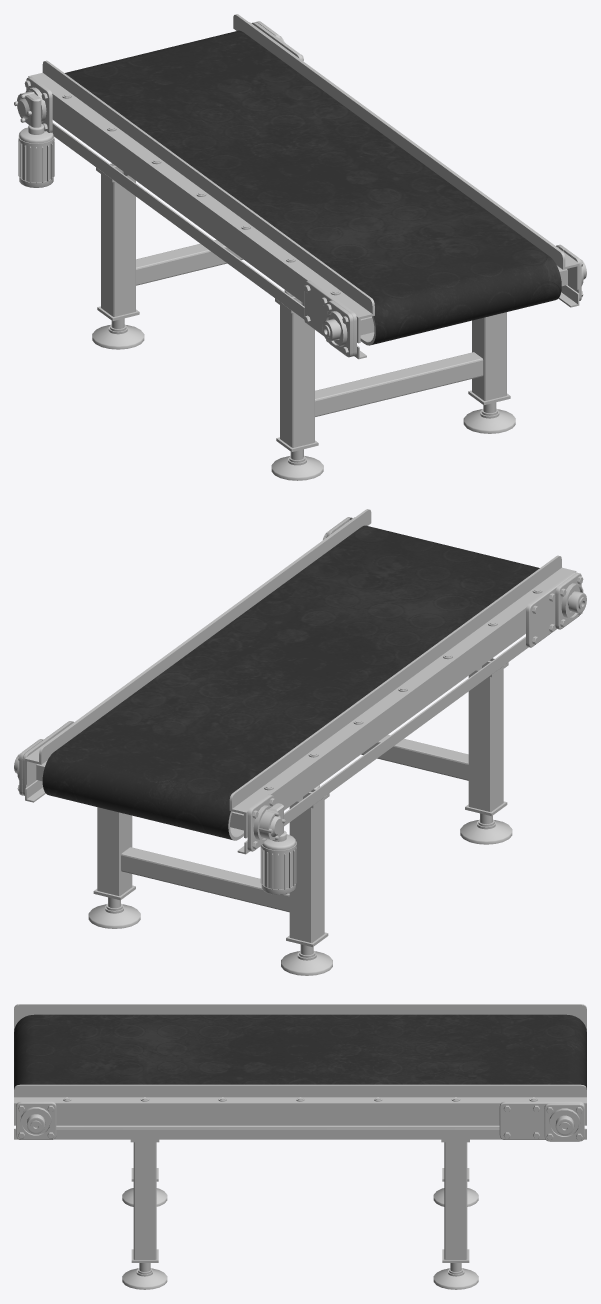
The model's file is conveyor.dae.
The picture shows the model from 3 angles, top to bottom: view 1: azimuth 30°, elevation 25°; view 2: azimuth 150°, elevation 25°; view 3: azimuth 270°, elevation 25°; orthographic projection. The views are drawn at different scales.
Visible parts, largest first — view 1: Conveyor01Belt, Conveyor01Frame01, Conveyor01Legs, Conveyor01Frame02; view 2: Conveyor01Belt, Conveyor01Frame01, Conveyor01Legs, Conveyor01Frame02; view 3: Conveyor01Belt, Conveyor01Frame02, Conveyor01Legs, Conveyor01Frame01, Conveyor01Frame.
Boxes of the visible parts, x1,y1,x2,y2 form: Conveyor01Belt: (65, 30, 561, 344); Conveyor01Frame01: (14, 60, 374, 359); Conveyor01Legs: (92, 163, 515, 480); Conveyor01Frame02: (233, 14, 586, 307); Conveyor01Belt: (42, 525, 539, 840); Conveyor01Frame01: (229, 555, 586, 894); Conveyor01Legs: (88, 658, 512, 975); Conveyor01Frame02: (14, 509, 371, 802); Conveyor01Belt: (14, 1014, 586, 1089); Conveyor01Frame02: (14, 1084, 586, 1141); Conveyor01Legs: (122, 1139, 478, 1289); Conveyor01Frame01: (14, 1004, 586, 1031); Conveyor01Frame: (56, 1125, 499, 1128).
Size of the model in its own units: 0.9422 by 0.7494 by 2.
